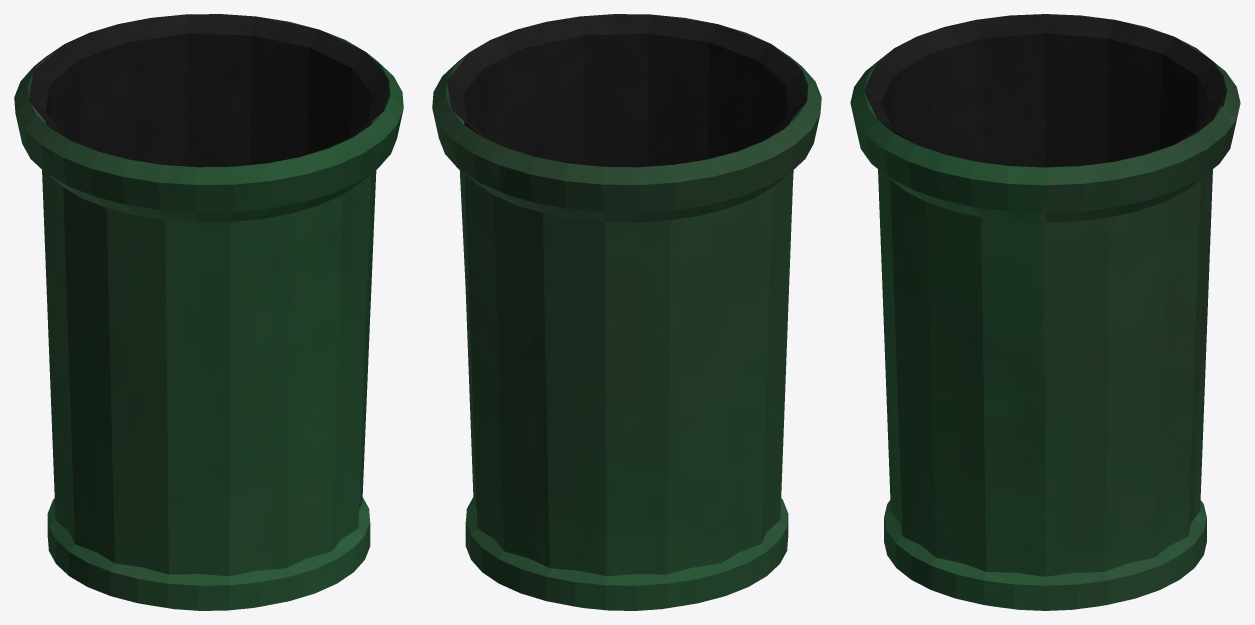
Rendered from pr_bin.glb.
The picture shows the model from 3 angles, left to right: view 1: azimuth 30°, elevation 25°; view 2: azimuth 150°, elevation 25°; view 3: azimuth 270°, elevation 25°; orthographic projection.
Visible parts, largest first — view 1: pr_bin; view 2: pr_bin; view 3: pr_bin.
Part boxes in pixels (x1,y1,x2,y2): pr_bin: [14, 14, 403, 610]; pr_bin: [432, 14, 821, 610]; pr_bin: [850, 14, 1240, 610].
Bounding box in the file's own units: 0.58 × 0.76 × 0.58.
1 material, 1 textured.
